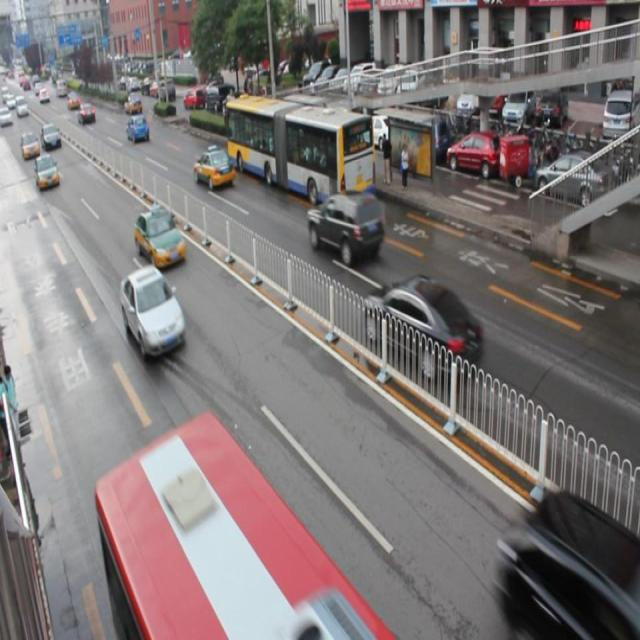car: (502, 495, 640, 639), (363, 274, 483, 384), (120, 266, 184, 356), (308, 193, 385, 264), (134, 205, 187, 268), (193, 147, 234, 190), (34, 152, 59, 190), (127, 114, 149, 141)
van: (94, 412, 398, 640), (223, 91, 373, 205)
